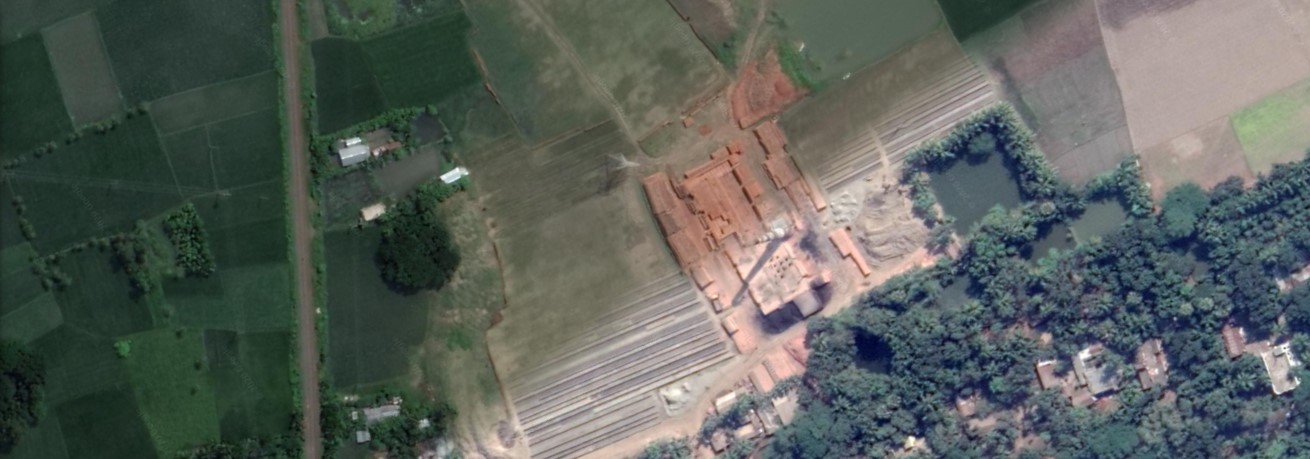kiln: (672, 169, 838, 326)
